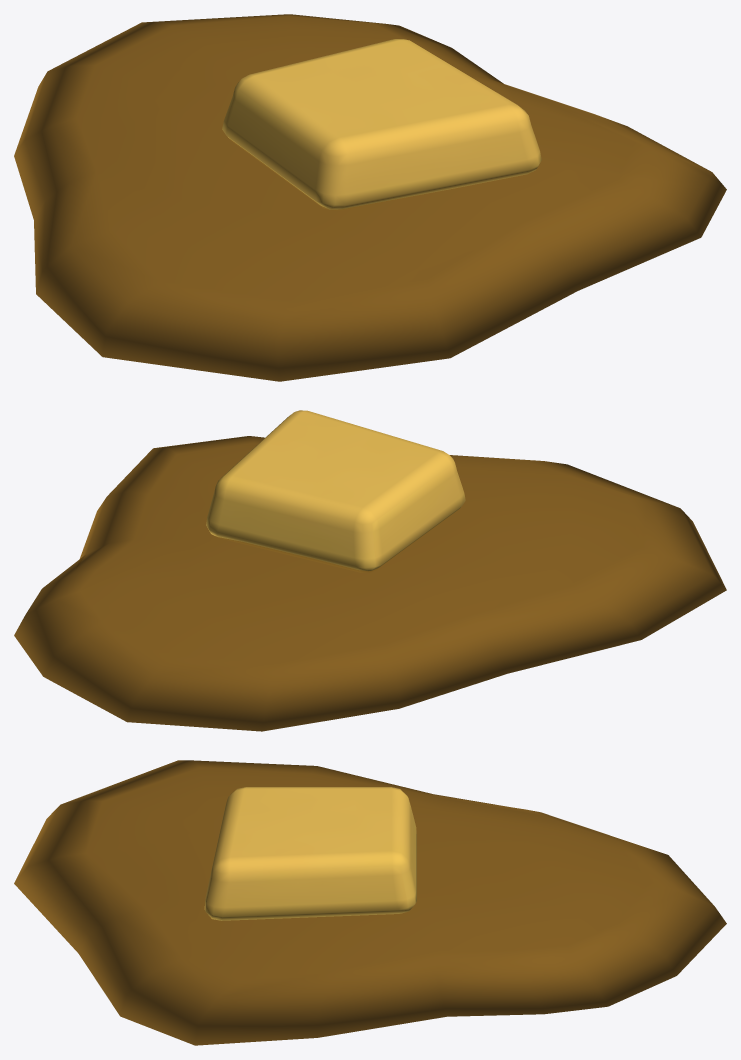
File: syrup n butter.fbx
3 views of the same model, one above another, from view 1: azimuth 30°, elevation 25°; view 2: azimuth 150°, elevation 25°; view 3: azimuth 270°, elevation 25° (orthographic). The views are drawn at different scales.
Visible parts, largest first — view 1: syrup, butter; view 2: syrup, butter; view 3: syrup, butter.
Part boxes in pixels (bbox=[...]): syrup: bbox=[14, 14, 726, 381]; butter: bbox=[222, 39, 541, 209]; syrup: bbox=[14, 436, 726, 731]; butter: bbox=[206, 410, 465, 571]; syrup: bbox=[14, 760, 726, 1045]; butter: bbox=[204, 787, 416, 920].
Bounding box in the file's own units: 72.24 × 12.84 × 79.85.
2 materials, 1 textured.
